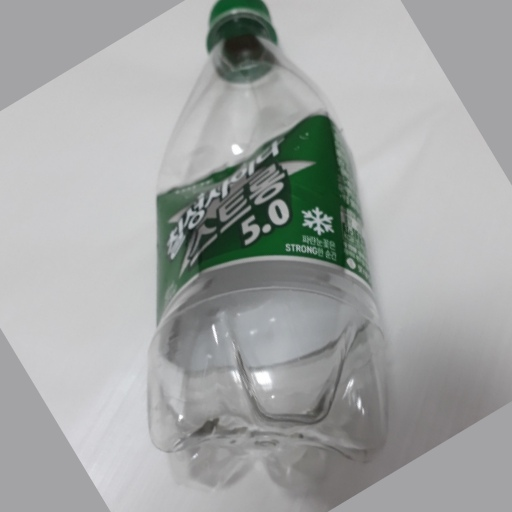Plastic_0: (148, 2, 388, 492)
